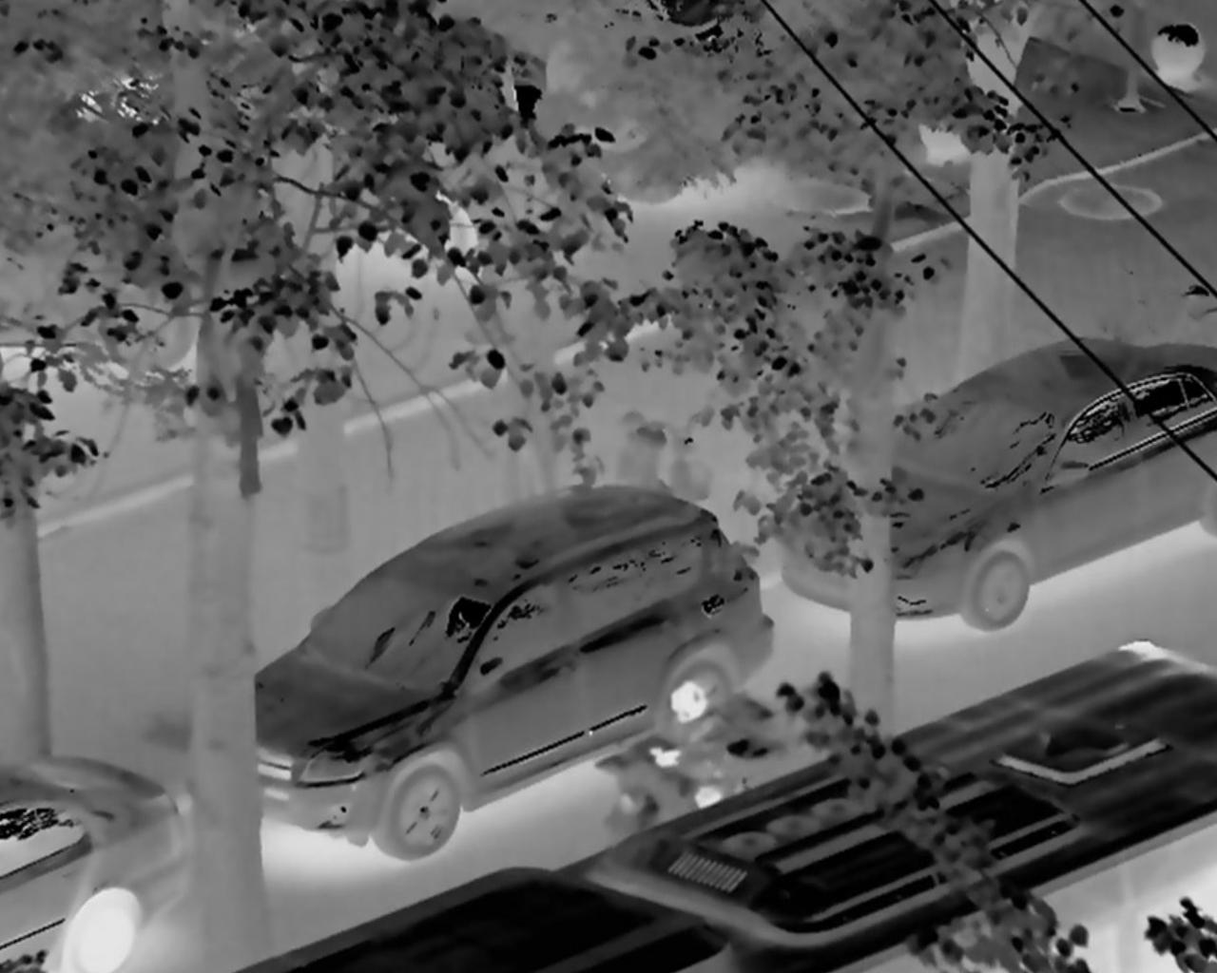person: (650, 678, 741, 814)
